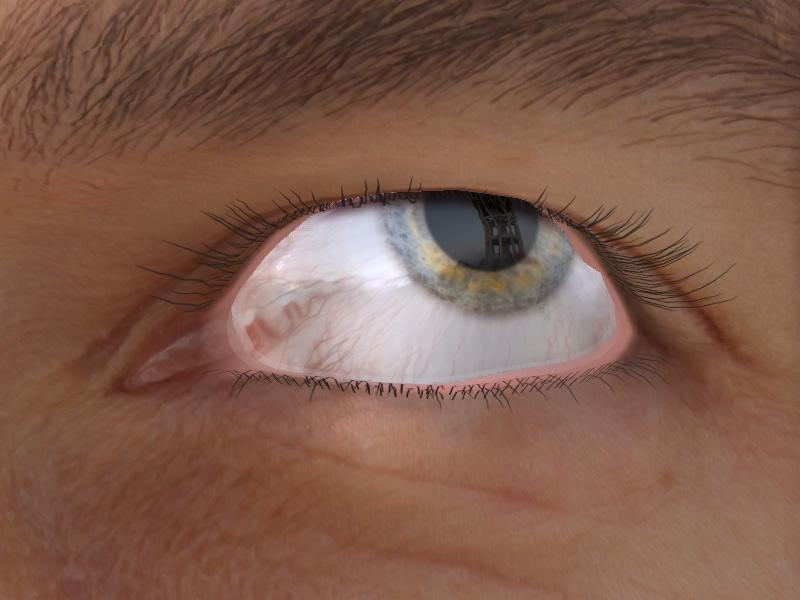eye: (379, 195, 584, 314)
